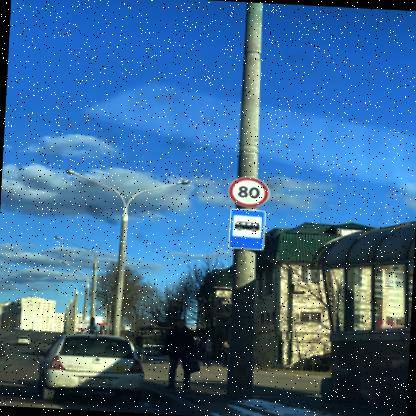speedlimit: (224, 175, 266, 207)
